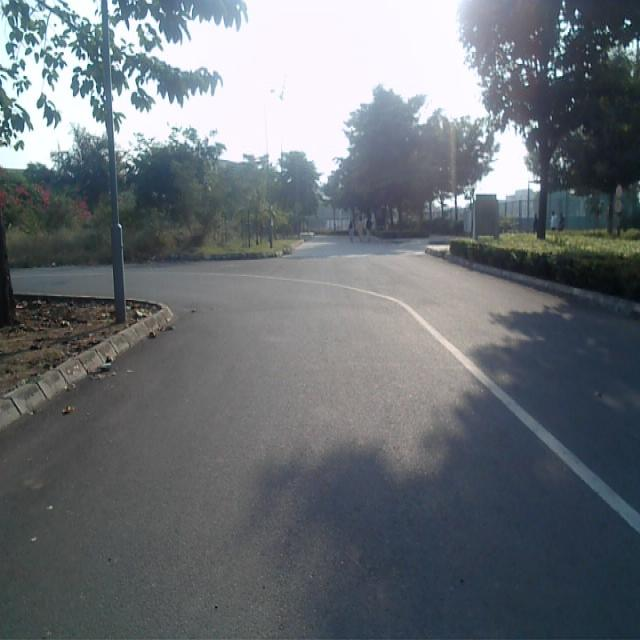lane: (0, 277, 640, 640)
